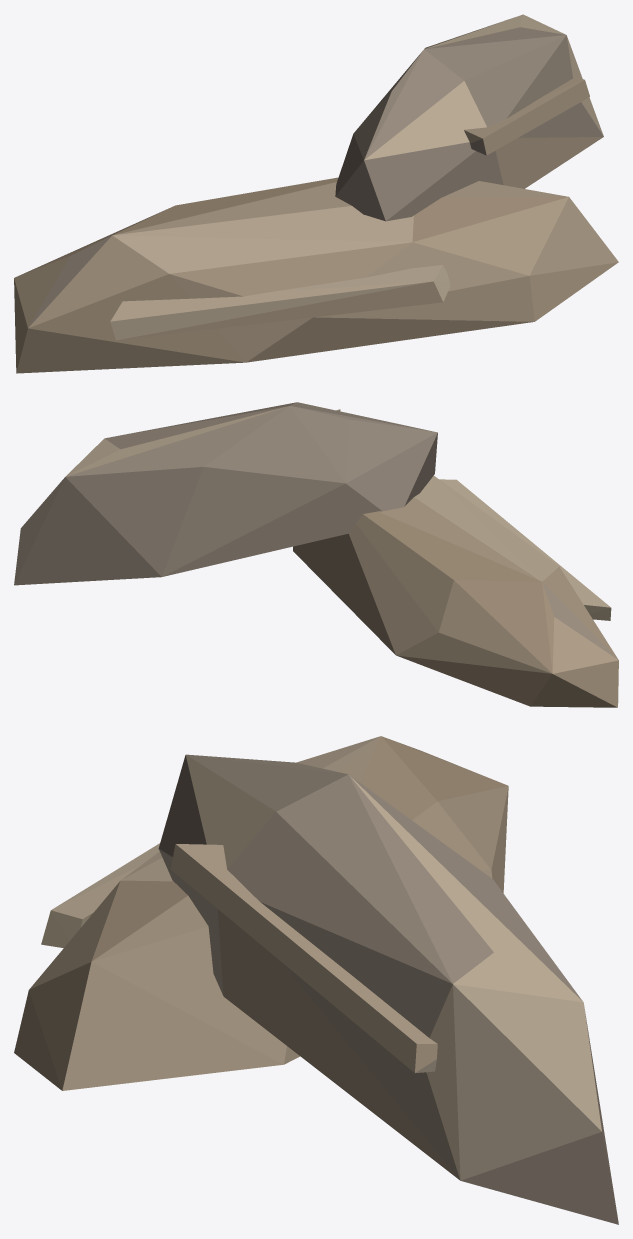
File: valley-slab.glb
3 views of the same model, one above another, from view 1: azimuth 30°, elevation 25°; view 2: azimuth 150°, elevation 25°; view 3: azimuth 270°, elevation 25° (orthographic). The views are drawn at different scales.
Size of the model in its own units: 1.19 by 0.4417 by 0.6823.
